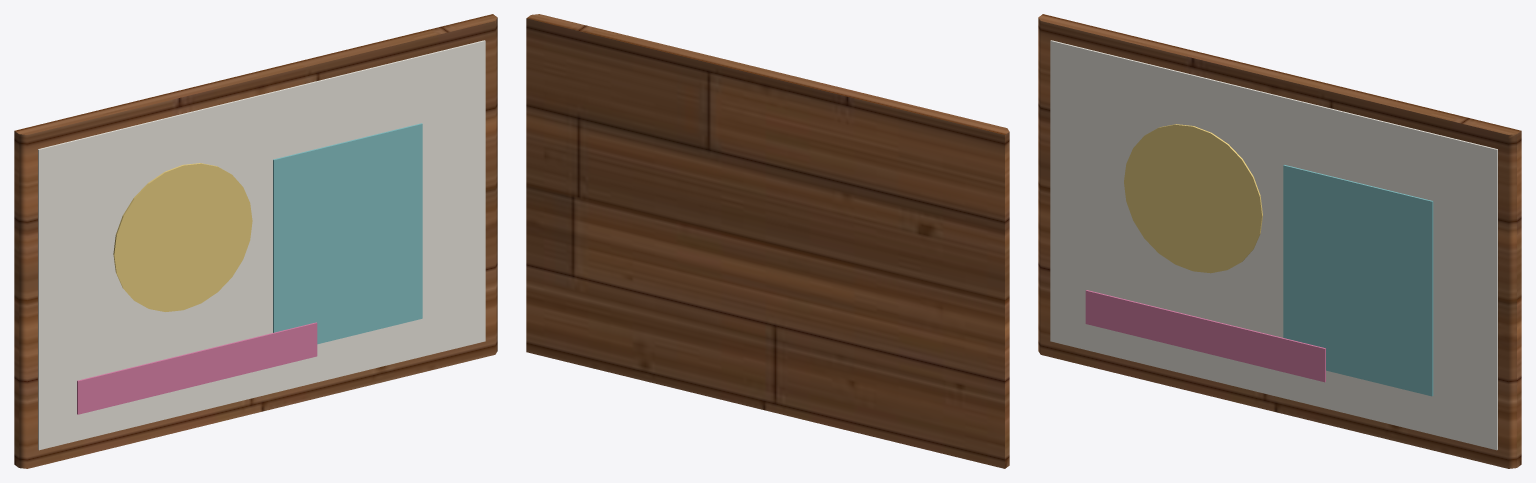
File: wall_art.glb
3 views of the same model, side by side, from view 1: azimuth 30°, elevation 25°; view 2: azimuth 150°, elevation 25°; view 3: azimuth 330°, elevation 25° (orthographic).
Visible parts, largest first — view 1: wall_art_cream, wall_art_teak, wall_art_accent2, wall_art_accent3, wall_art_accent; view 2: wall_art_teak; view 3: wall_art_cream, wall_art_teak, wall_art_accent2, wall_art_accent3, wall_art_accent.
Boxes of the visible parts, <box> form: wall_art_cream: <box>38,40,485,450</box>; wall_art_teak: <box>14,14,497,468</box>; wall_art_accent2: <box>273,123,422,344</box>; wall_art_accent3: <box>113,163,252,311</box>; wall_art_accent: <box>77,322,317,414</box>; wall_art_teak: <box>526,14,1009,468</box>; wall_art_cream: <box>1050,40,1497,450</box>; wall_art_teak: <box>1038,14,1521,468</box>; wall_art_accent2: <box>1283,165,1433,396</box>; wall_art_accent3: <box>1124,124,1262,273</box>; wall_art_accent: <box>1085,290,1325,382</box>.
Size of the model in its own units: 0.9 by 0.6 by 0.034.
5 materials, 1 textured.
